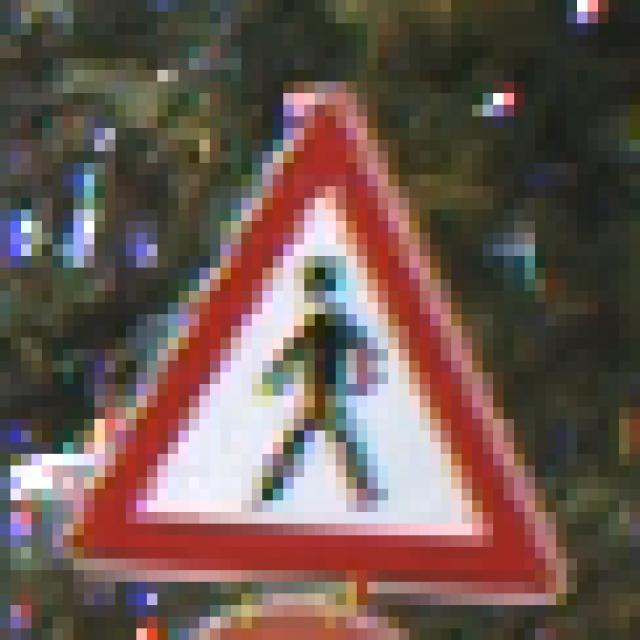pedestrian crossing: (55, 92, 579, 607)
